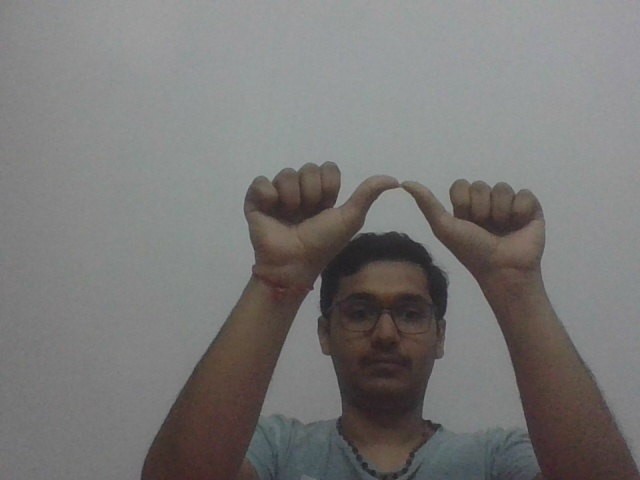A: (237, 160, 563, 277)
